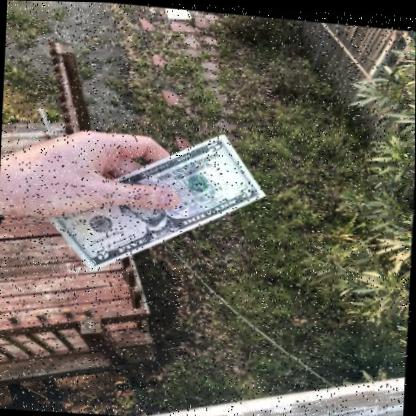five-front: (44, 131, 267, 270)
